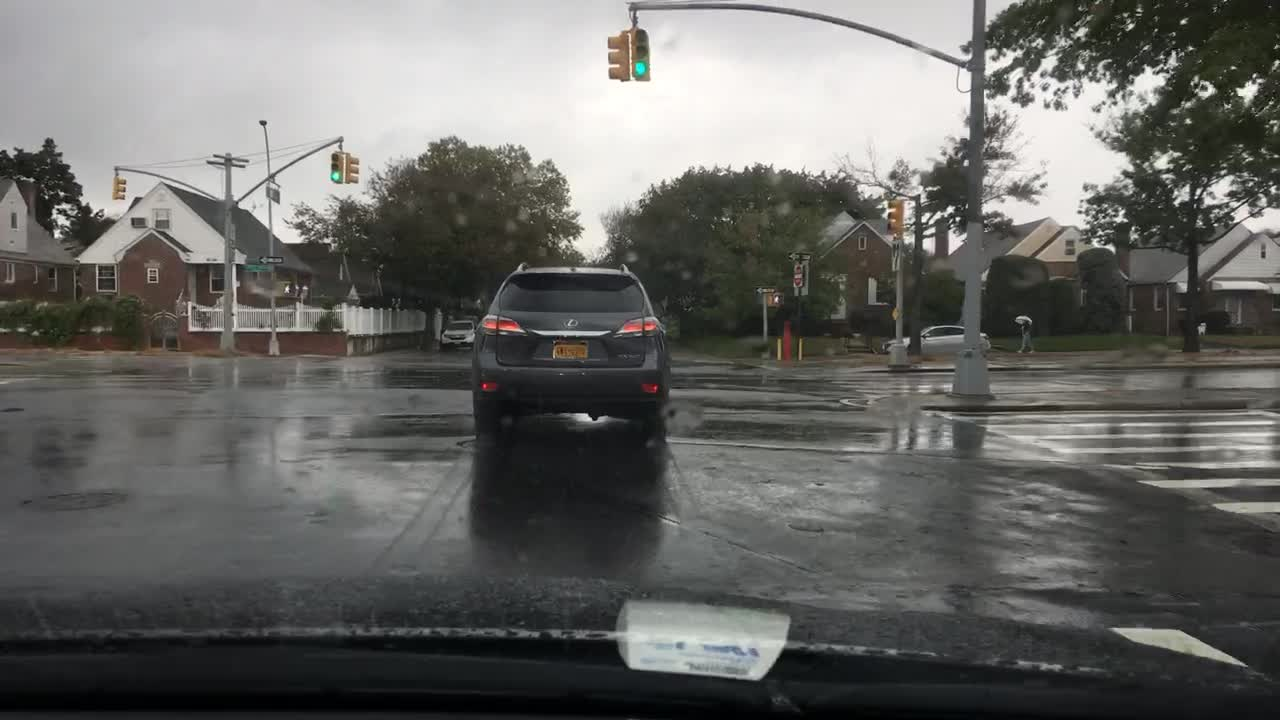car: (470, 258, 671, 422), (879, 323, 985, 361), (440, 319, 475, 346)
person: (1014, 314, 1035, 354)
traffic light: (606, 33, 625, 86), (630, 27, 650, 77), (884, 195, 904, 234), (272, 278, 294, 299), (346, 153, 358, 184), (329, 153, 341, 182), (113, 177, 127, 199), (768, 290, 781, 303)
traffic sign: (889, 239, 900, 269), (791, 263, 804, 288), (244, 262, 272, 272), (264, 187, 281, 202), (260, 255, 286, 262), (788, 252, 809, 259), (756, 283, 771, 291)
